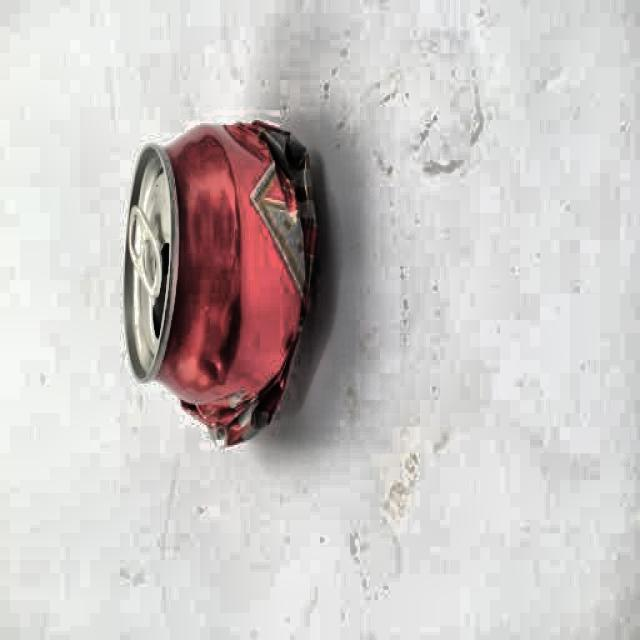metal: (120, 123, 327, 446)
